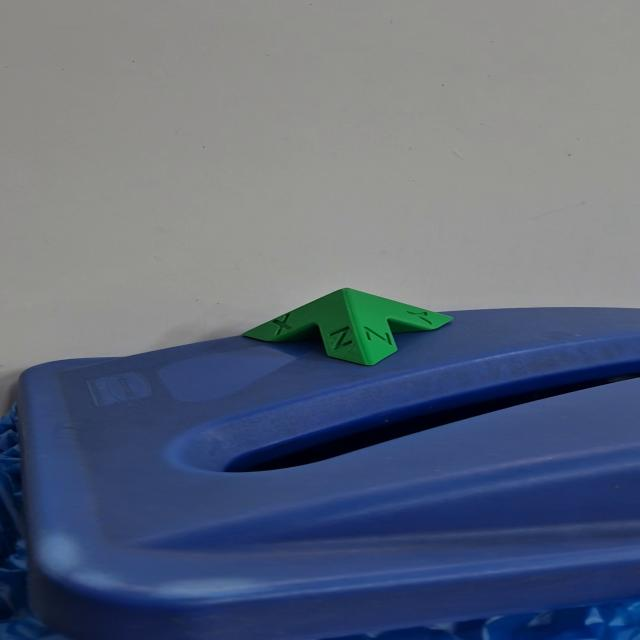objects: (239, 287, 456, 367)
